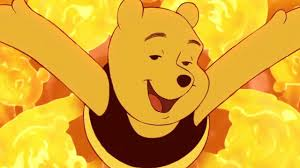Winnie: (99, 1, 211, 134)
